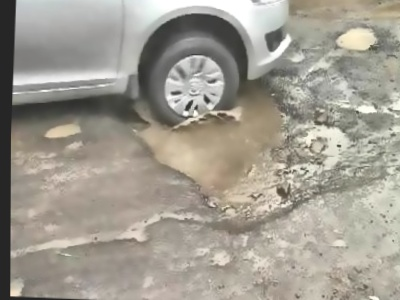pothole: (124, 56, 336, 234), (334, 23, 382, 51), (41, 118, 85, 142)
